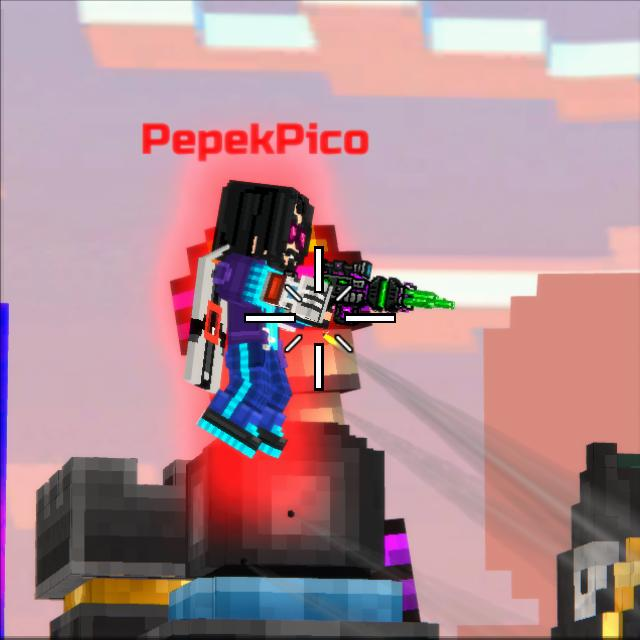Enemy: (185, 177, 376, 458)
